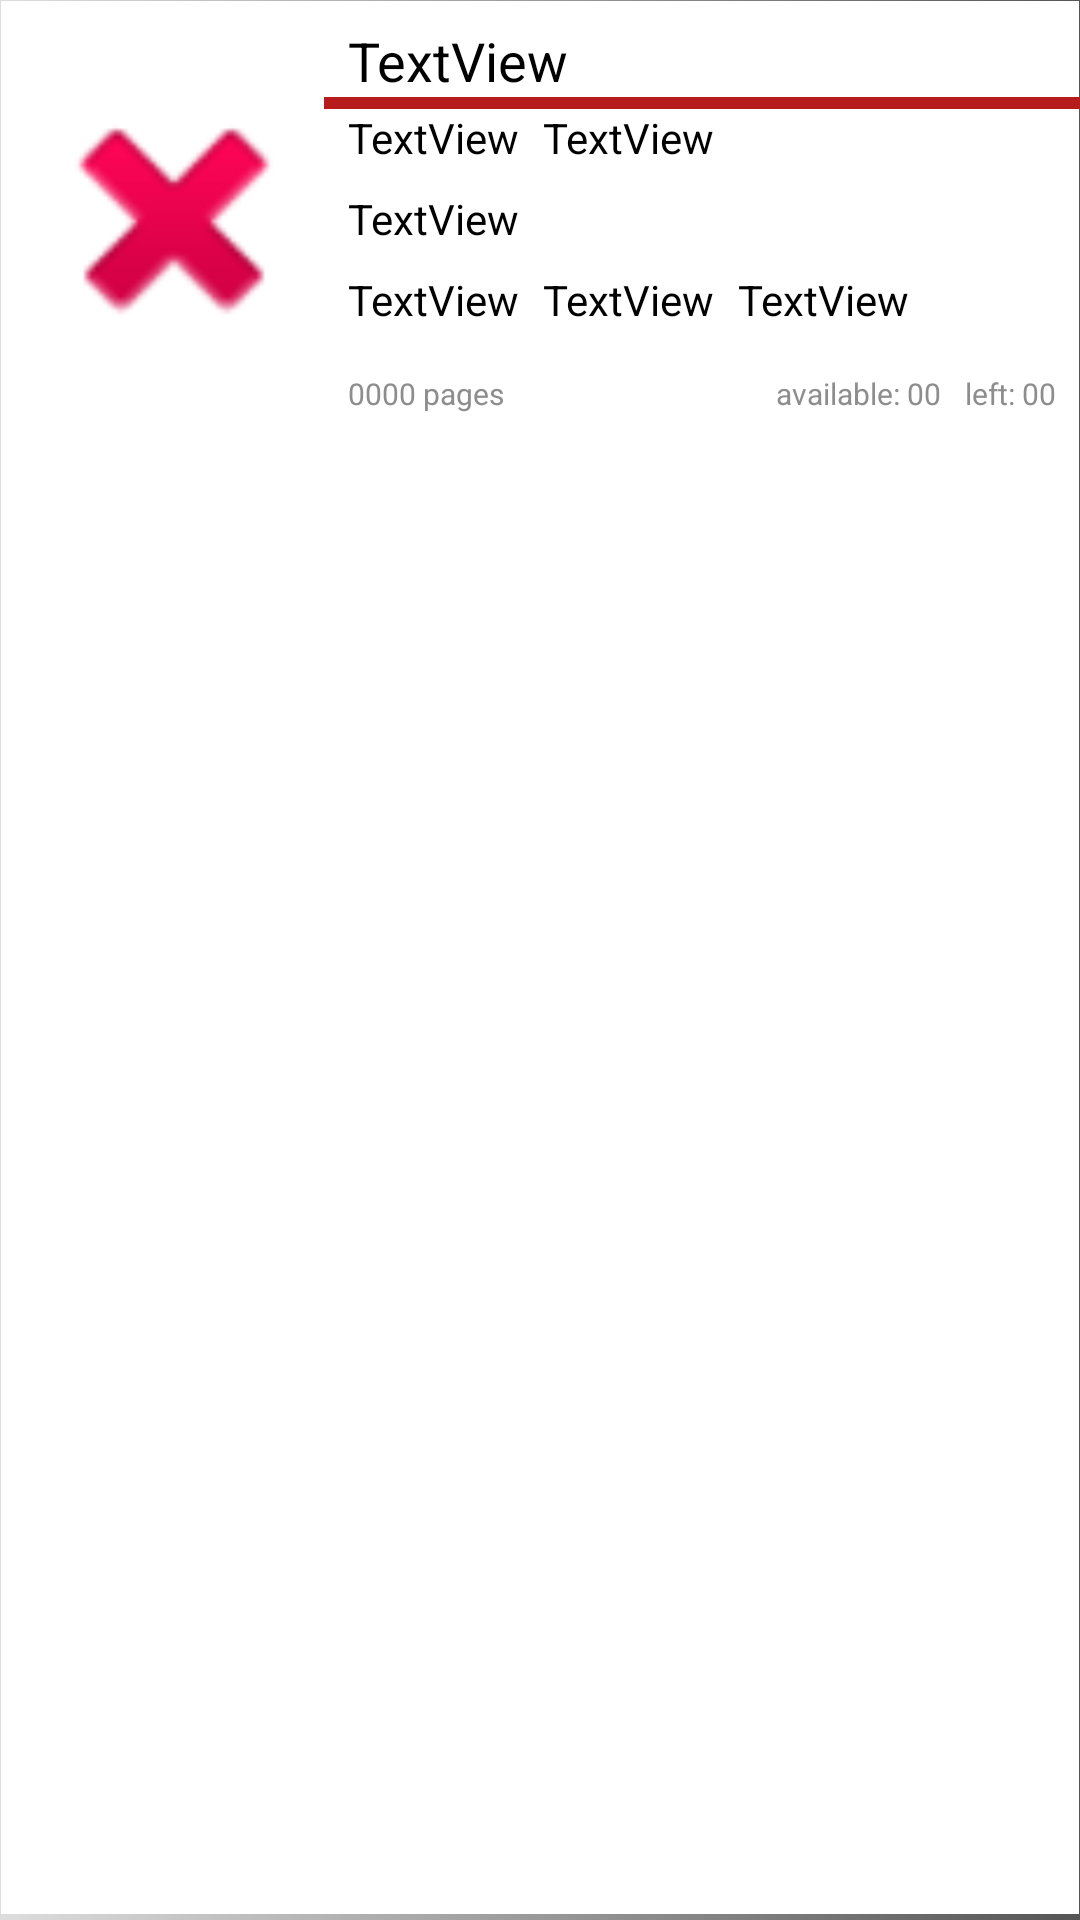

Screen size 1080*1920. Icon name, then its box in pixels as (x1, y1, x2, y2):
delete: (78, 128, 270, 313)
